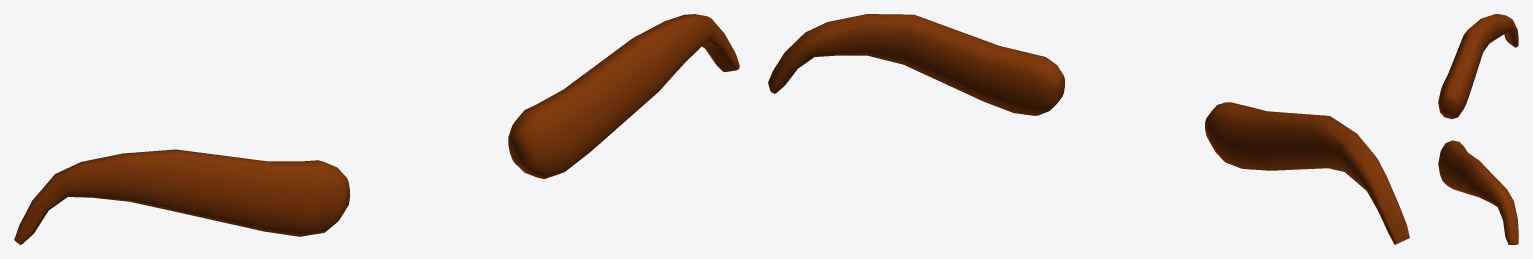
File: Eyebrows_20_02.fbx
The picture shows the model from 3 angles, left to right: view 1: azimuth 30°, elevation 25°; view 2: azimuth 150°, elevation 25°; view 3: azimuth 270°, elevation 25°; orthographic projection. The views are drawn at different scales.
Parts seen in each view (by area): view 1: Eyebrows_20_02; view 2: Eyebrows_20_02; view 3: Eyebrows_20_02.
Part boxes in pixels (x1,y1,x2,y2): Eyebrows_20_02: [14, 14, 739, 244]; Eyebrows_20_02: [768, 14, 1409, 244]; Eyebrows_20_02: [1438, 14, 1518, 244].
Size of the model in its own units: 19.57 by 2.5 by 3.27.
